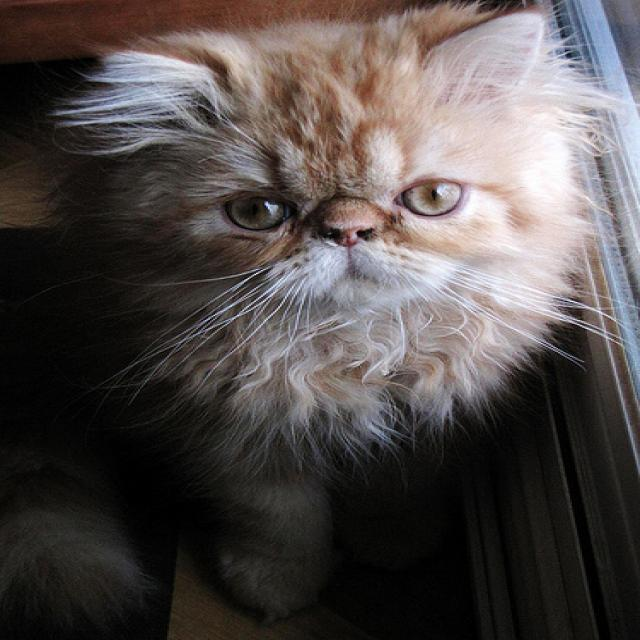Persian: (68, 0, 594, 373)
